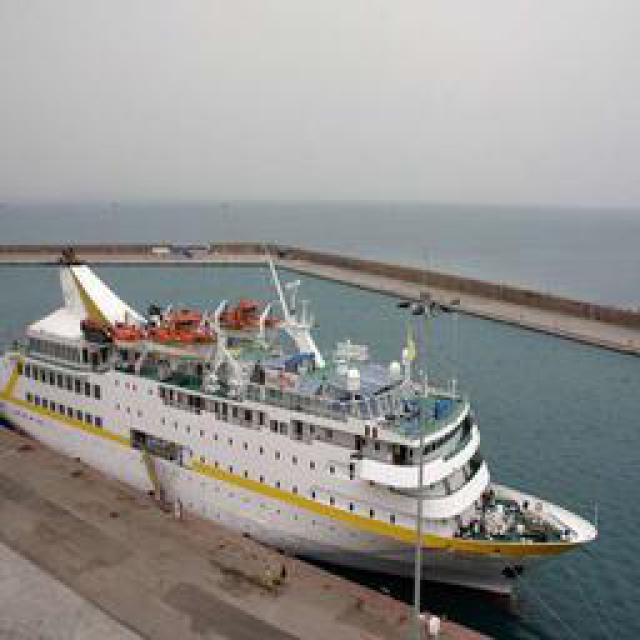Ship: (10, 239, 598, 614)
